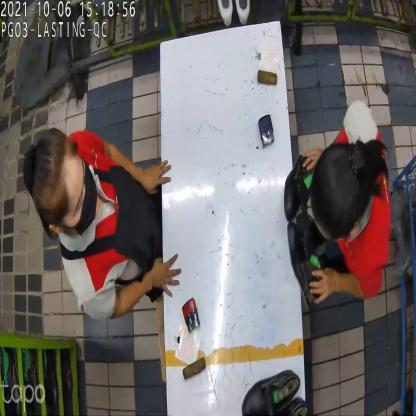shoes: (284, 150, 326, 309), (241, 362, 311, 416)
stamp: (256, 115, 276, 150), (184, 296, 202, 334)
